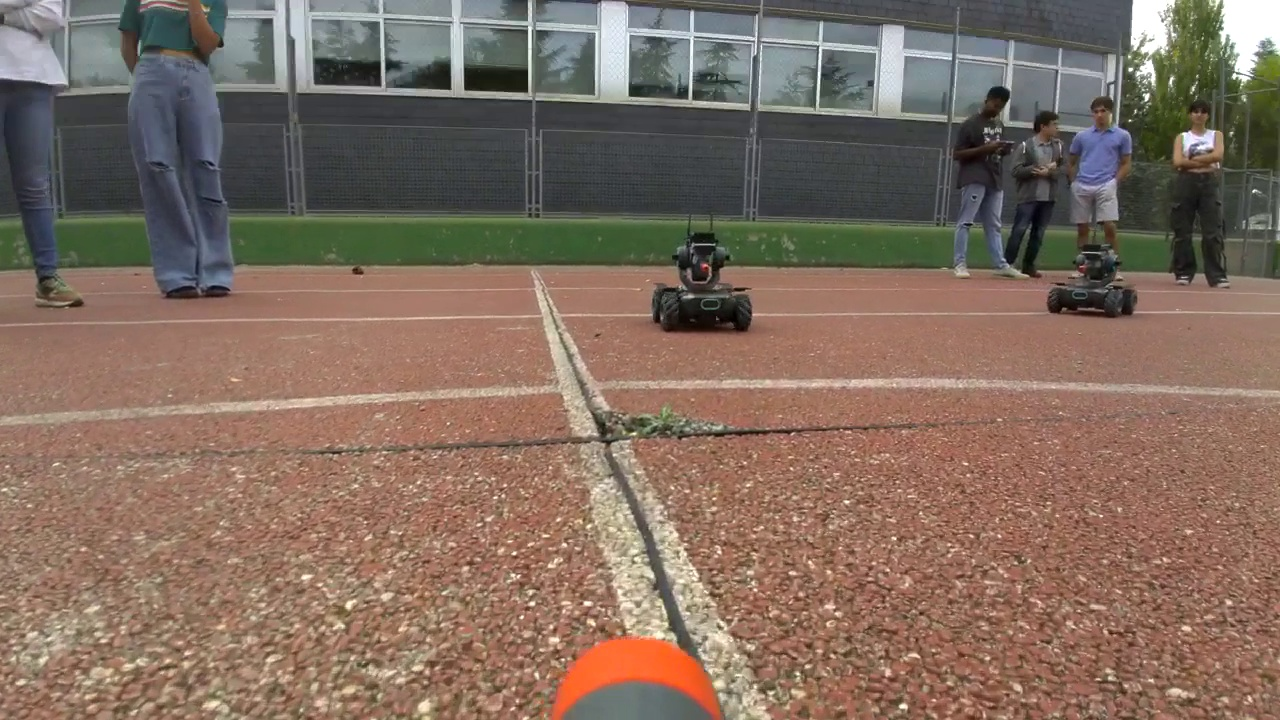robot: (651, 233, 753, 333), (1048, 243, 1136, 318)
